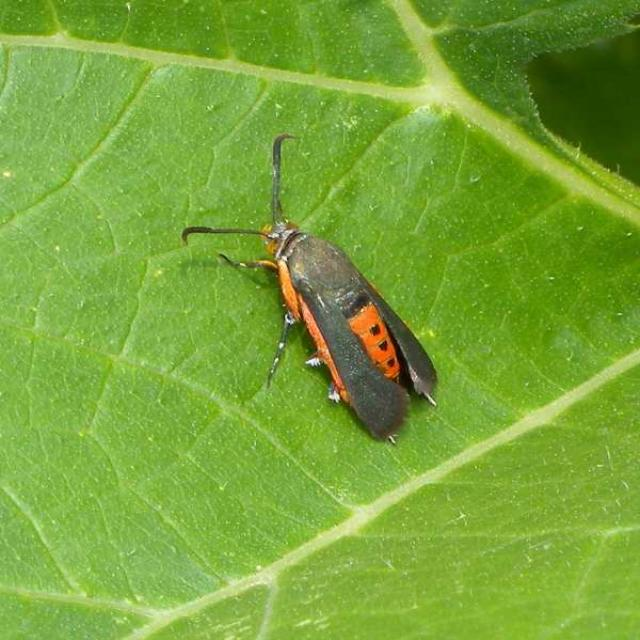squash_vine_borer: (172, 129, 451, 455)
